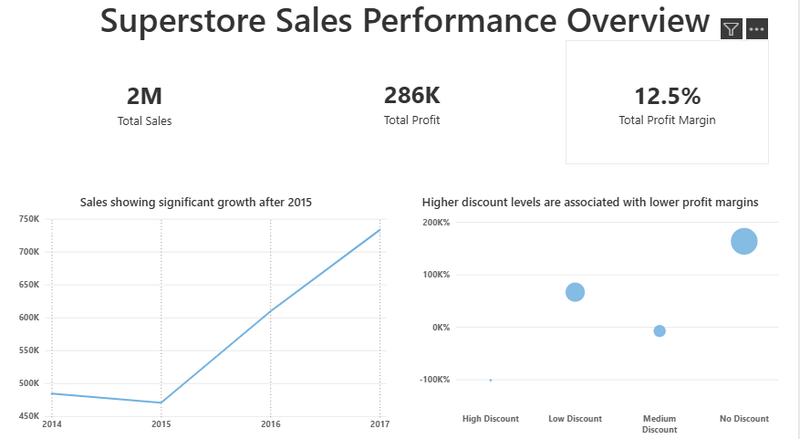

What the dashboard file says about the page in this screenshot:
{"tool":"powerbi","page":{"name":"Overall Performace","canvas":[1280,720],"ordinal":0},"visuals":[{"type":"textbox","box":[152.6,0,1010.9,82.1],"z":0},{"type":"card","fields":{"Values":["Sample - Superstore.Total Sales"]},"box":[86.4,77.8,321.1,194.4],"z":1000},{"type":"card","fields":{"Values":["Sample - Superstore.Total Profit"]},"box":[508.3,76.3,321.1,194.4],"z":2000},{"type":"card","fields":{"Values":["Sample - Superstore.Total Profit Margin"]},"box":[911.5,76.3,321.1,195.8],"z":3000},{"type":"lineChart","title":"Sales showing significant growth after 2015","fields":{"Category":["Sample - Superstore.Year of order"],"Y":["Sum(Sample - Superstore.Sales)"]},"box":[17.3,318.2,622.1,400.3],"z":4000},{"type":"scatterChart","title":"Higher discount levels are associated with lower profit margins","fields":{"X":["Sample - Superstore.Discount Group"],"Y":["Sum(Sample - Superstore.Profit Margin)"],"Size":["Sum(Sample - Superstore.Profit)"]},"box":[639.4,318.2,622.1,401.8],"z":5000}]}

Visuals, with their boxes in screenshot pixels (x1, y1, x2, y2), scaled from the page's 1280x720 canvas onto the 800x439 screenshot:
textbox: box(95, 0, 727, 50)
card - Sample - Superstore.Total Sales: box(54, 47, 255, 166)
card - Sample - Superstore.Total Profit: box(318, 47, 518, 165)
card - Sample - Superstore.Total Profit Margin: box(570, 47, 770, 166)
"Sales showing significant growth after 2015" lineChart: box(11, 194, 400, 438)
"Higher discount levels are associated with lower profit margins" scatterChart: box(400, 194, 788, 438)
